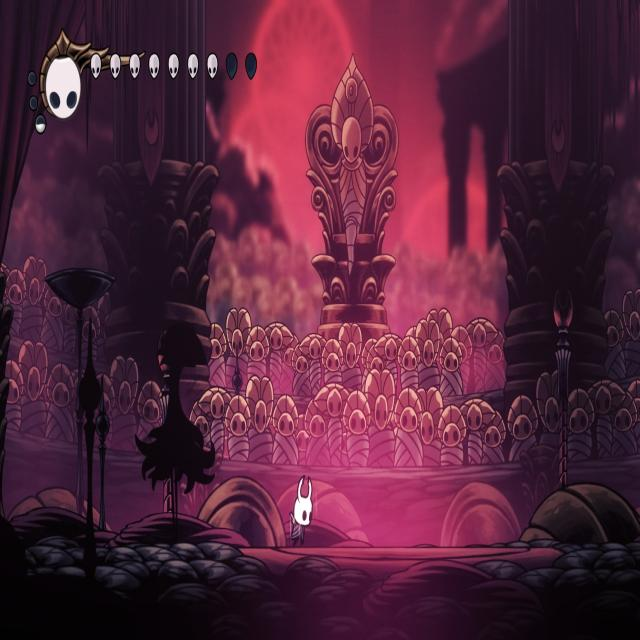Grimm: (133, 316, 217, 547)
Player: (288, 471, 314, 552)
